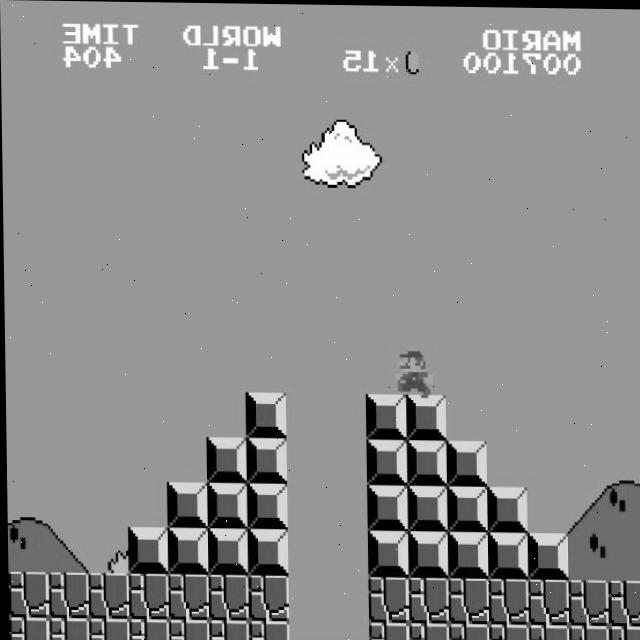11- little_mario: (391, 348, 435, 396)
17- undestructible_block: (486, 577, 528, 624), (406, 576, 448, 623), (246, 574, 288, 621), (166, 573, 208, 620), (86, 572, 128, 619), (566, 578, 608, 624), (526, 578, 568, 624), (446, 577, 488, 623), (366, 576, 408, 622), (206, 574, 248, 620), (126, 573, 168, 619), (46, 572, 88, 618), (7, 571, 48, 617), (607, 578, 640, 624), (47, 617, 88, 640), (127, 618, 168, 640), (87, 618, 128, 640), (7, 617, 48, 639), (207, 619, 248, 640), (167, 619, 208, 640), (247, 620, 288, 640), (367, 621, 408, 640), (447, 622, 488, 640), (407, 622, 448, 640), (527, 623, 568, 640), (487, 623, 528, 640), (567, 624, 608, 640), (607, 624, 640, 640)
9- hard_block: (445, 485, 487, 532), (404, 393, 446, 440), (365, 484, 407, 531), (244, 391, 286, 438), (205, 482, 247, 529), (485, 486, 527, 532), (405, 485, 447, 531), (364, 393, 406, 439), (245, 483, 287, 529), (165, 482, 207, 528), (486, 531, 527, 578), (406, 530, 447, 577), (246, 528, 287, 575), (166, 527, 207, 574), (526, 532, 567, 578), (446, 531, 487, 577), (405, 439, 446, 485), (366, 530, 407, 576), (245, 437, 286, 483), (206, 528, 247, 574), (126, 527, 167, 573), (445, 440, 486, 485), (365, 439, 406, 484), (205, 437, 246, 482)
